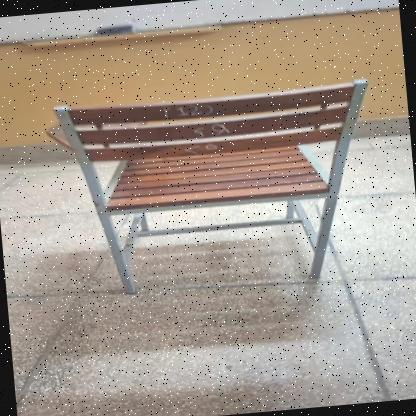chair: (40, 68, 390, 310)
